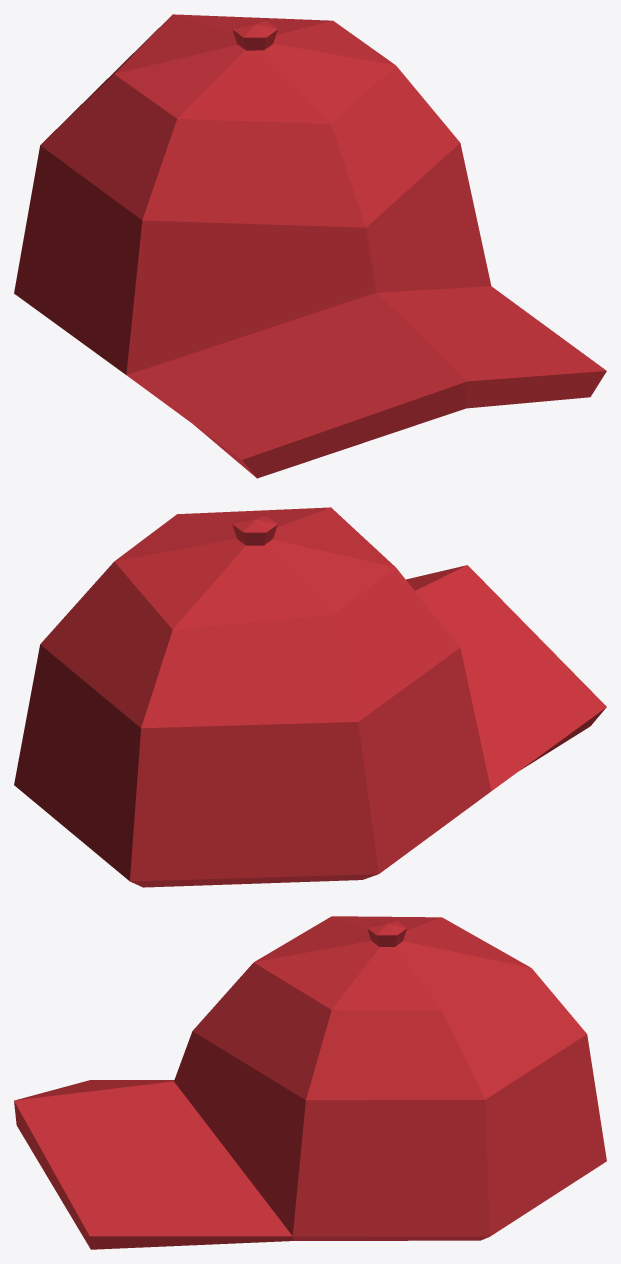
Rendered from props_cap-baseball.fbx.
The picture shows the model from 3 angles, top to bottom: view 1: azimuth 30°, elevation 25°; view 2: azimuth 150°, elevation 25°; view 3: azimuth 270°, elevation 25°; orthographic projection. The views are drawn at different scales.
Visible parts, largest first — view 1: props_cap_baseball; view 2: props_cap_baseball; view 3: props_cap_baseball.
Boxes of the visible parts, box(x1,y1,x2,y2) form: props_cap_baseball: box(14, 14, 606, 478); props_cap_baseball: box(14, 507, 606, 887); props_cap_baseball: box(14, 916, 606, 1249).
Size of the model in its own units: 125 by 94.63 by 200.
